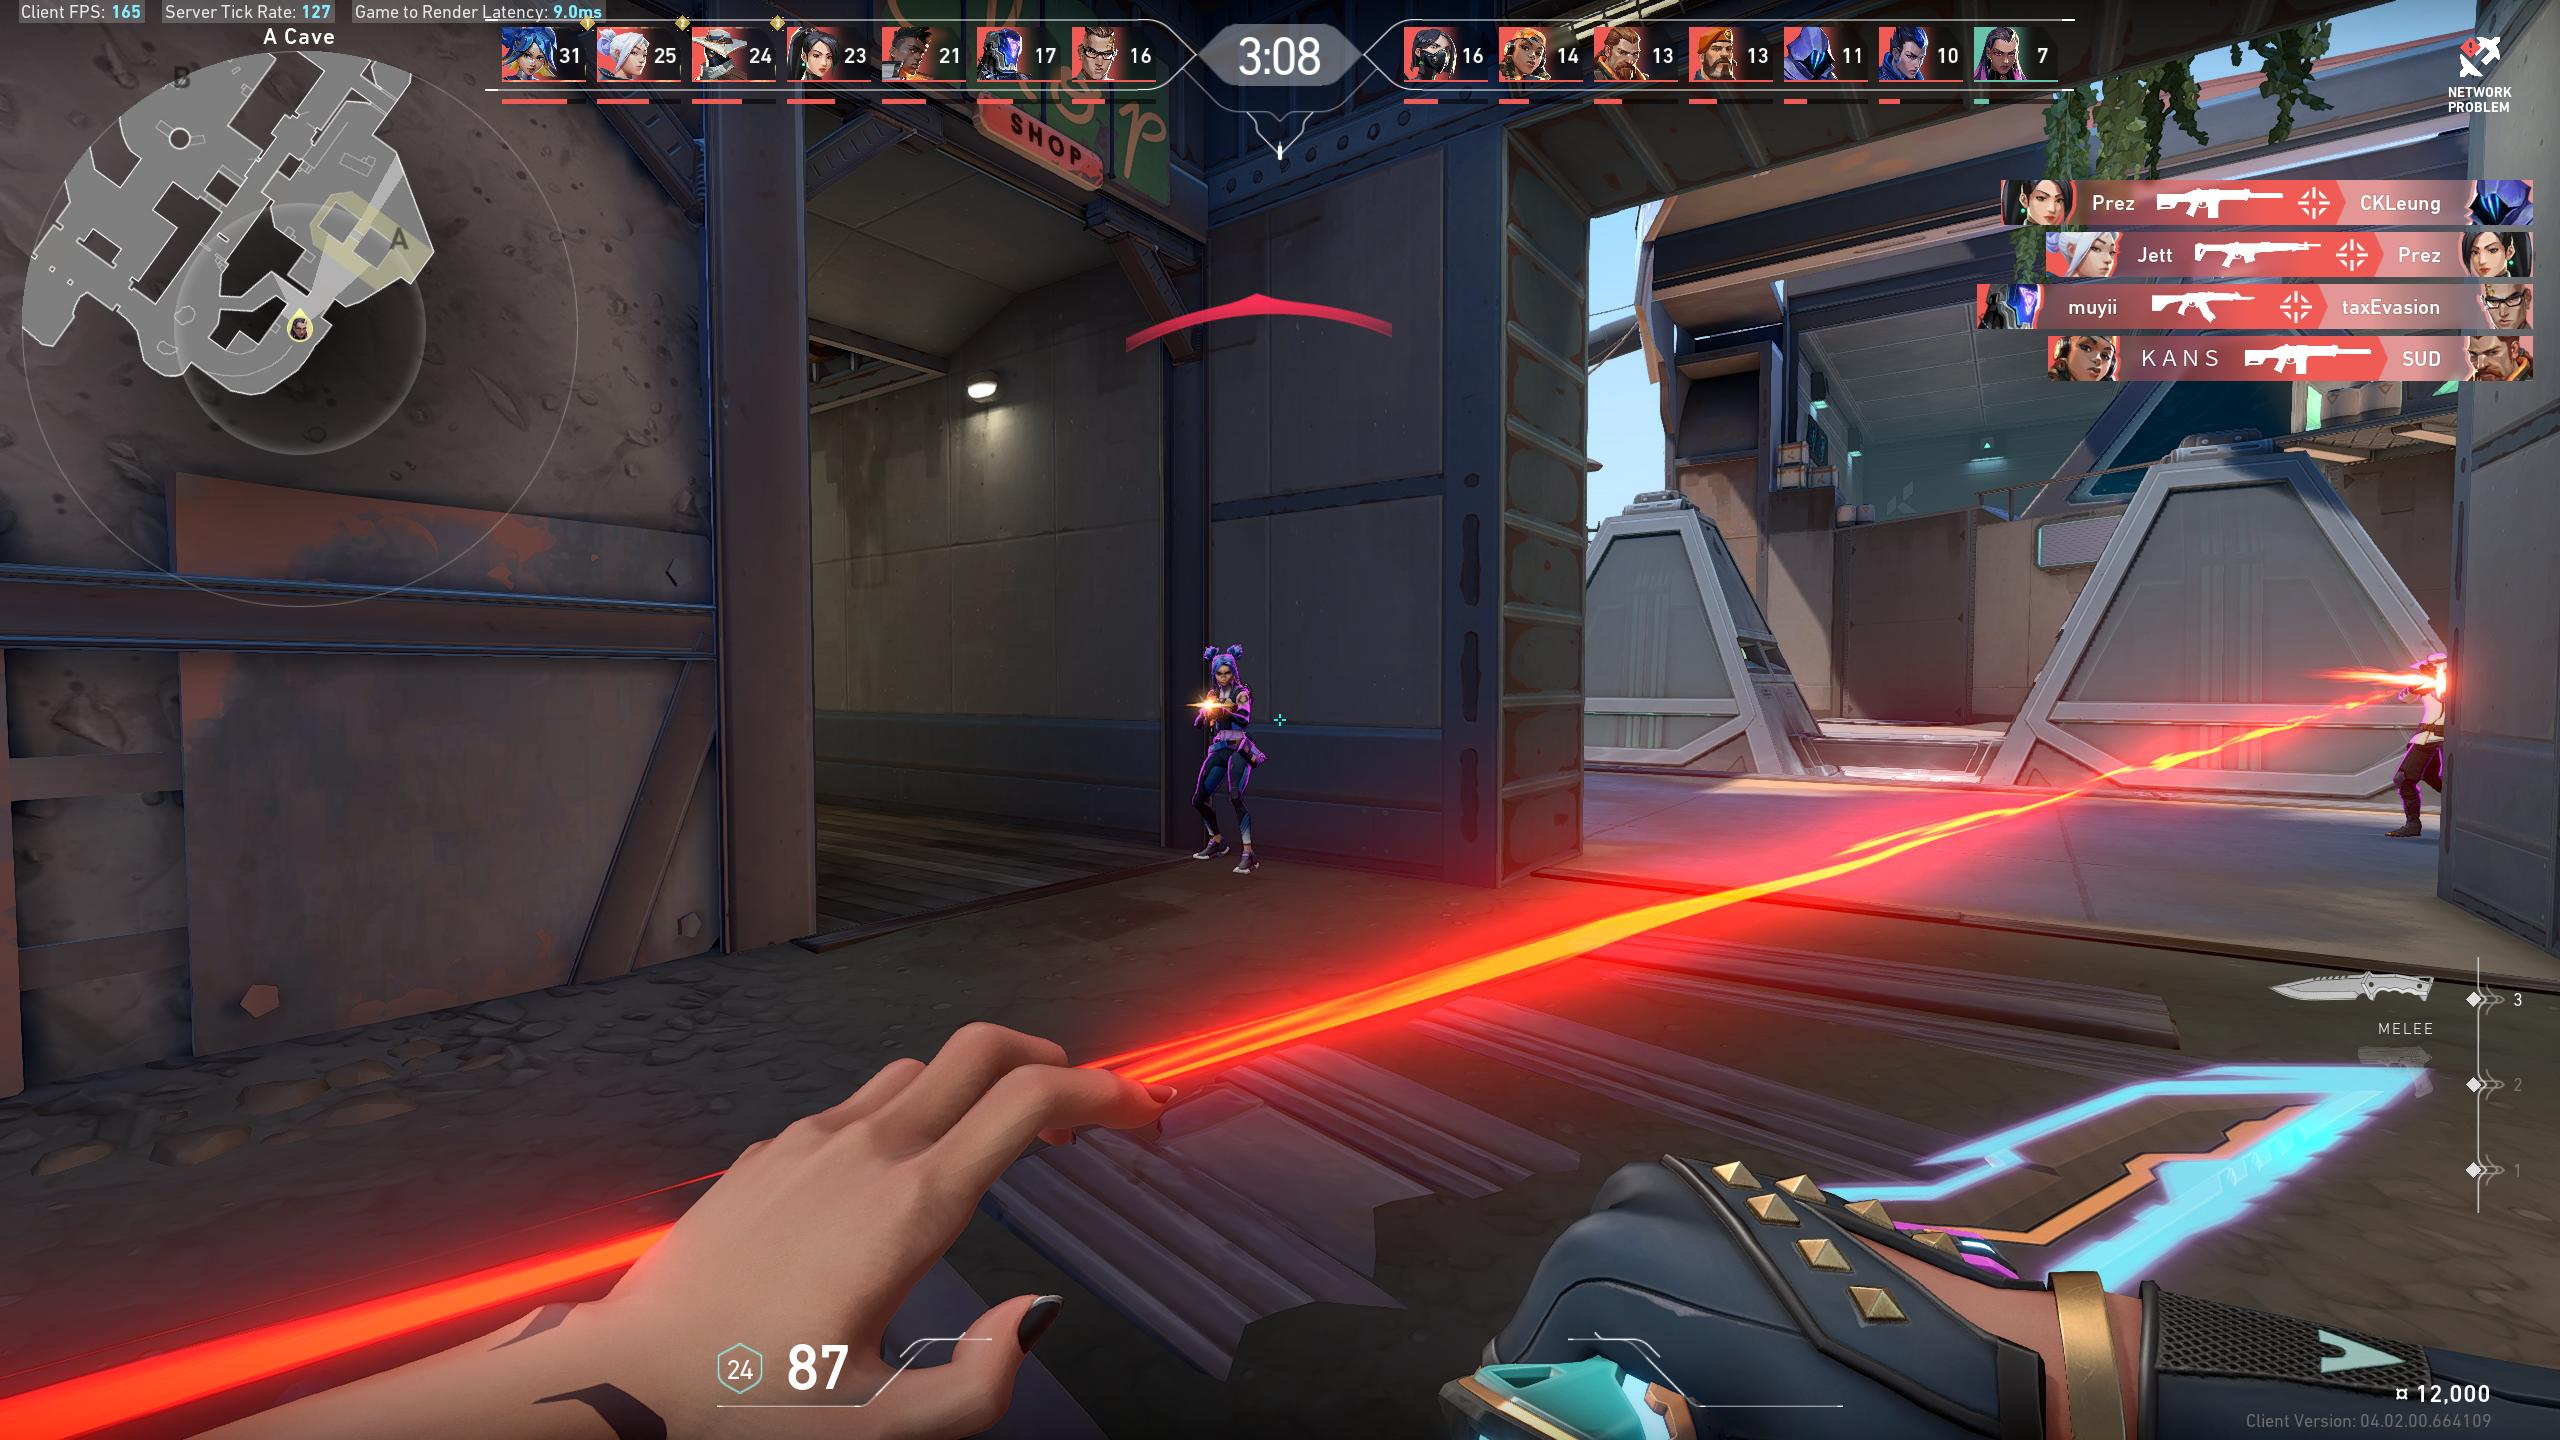enemyBody: (1213, 693, 1241, 745)
enemyHead: (1215, 658, 1234, 684)
